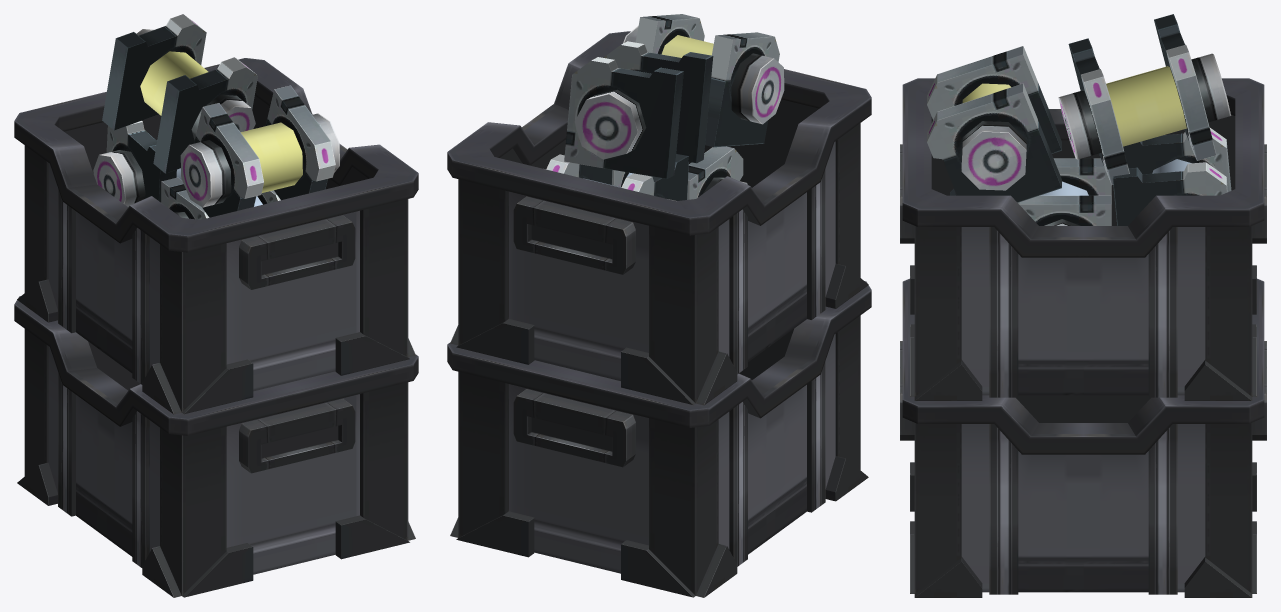
Rendered from my_carrier_01_box_06.glb.
3 renders of one model, left to right at view 1: azimuth 30°, elevation 25°; view 2: azimuth 150°, elevation 25°; view 3: azimuth 270°, elevation 25°, orthographic. The views are drawn at different scales.
Visible parts, largest first — view 1: my_carrier_01_box_06; view 2: my_carrier_01_box_06; view 3: my_carrier_01_box_06.
Part boxes in pixels (x1,y1,x2,y2): my_carrier_01_box_06: (14,14,418,597); my_carrier_01_box_06: (447,14,871,597); my_carrier_01_box_06: (900,14,1266,597).
Size of the model in its own units: 0.00306 by 0.00534 by 0.00362.
2 materials, 2 textured.
